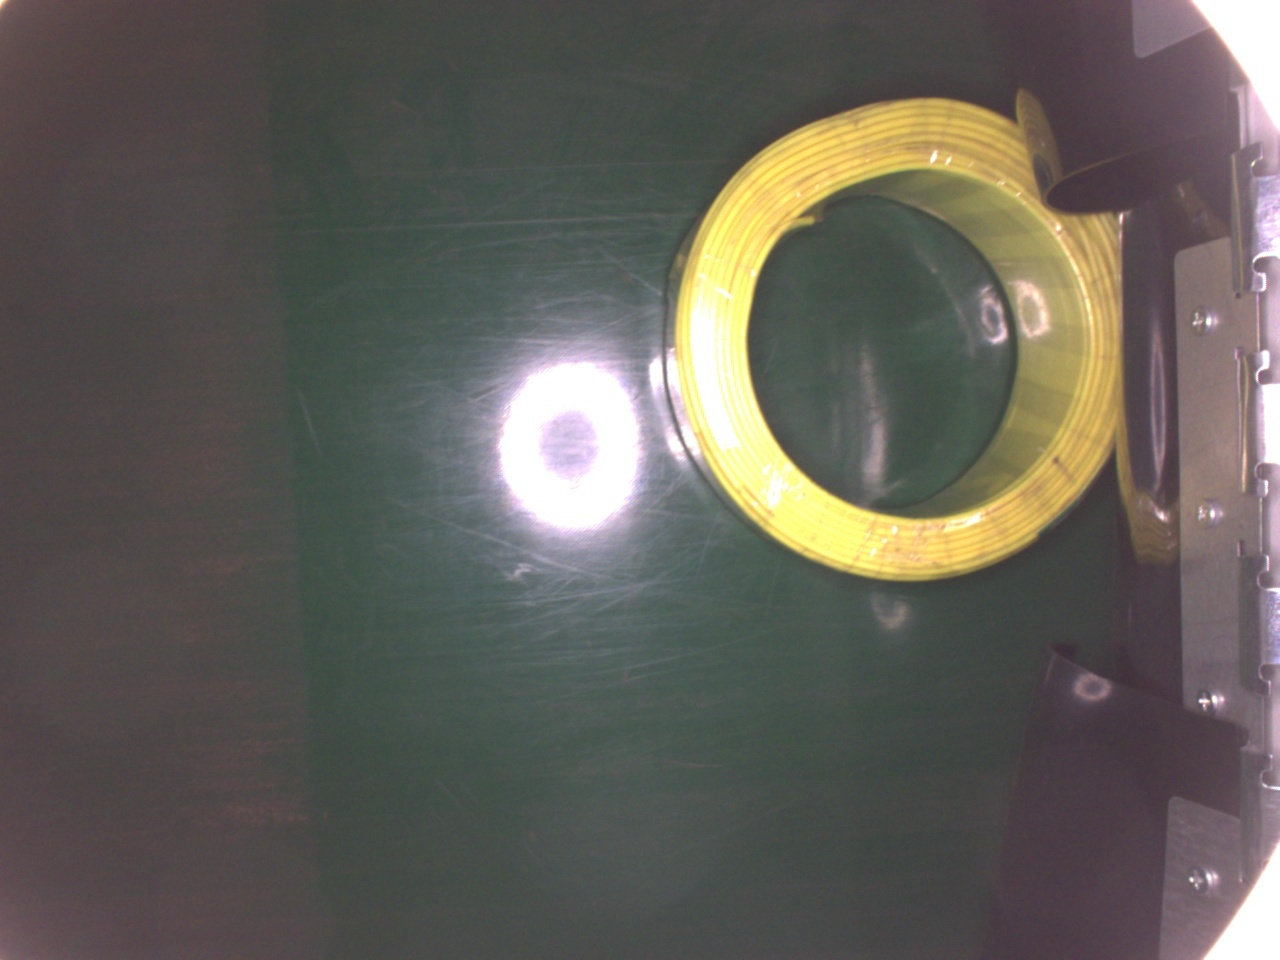yellow: (664, 94, 1114, 575)
